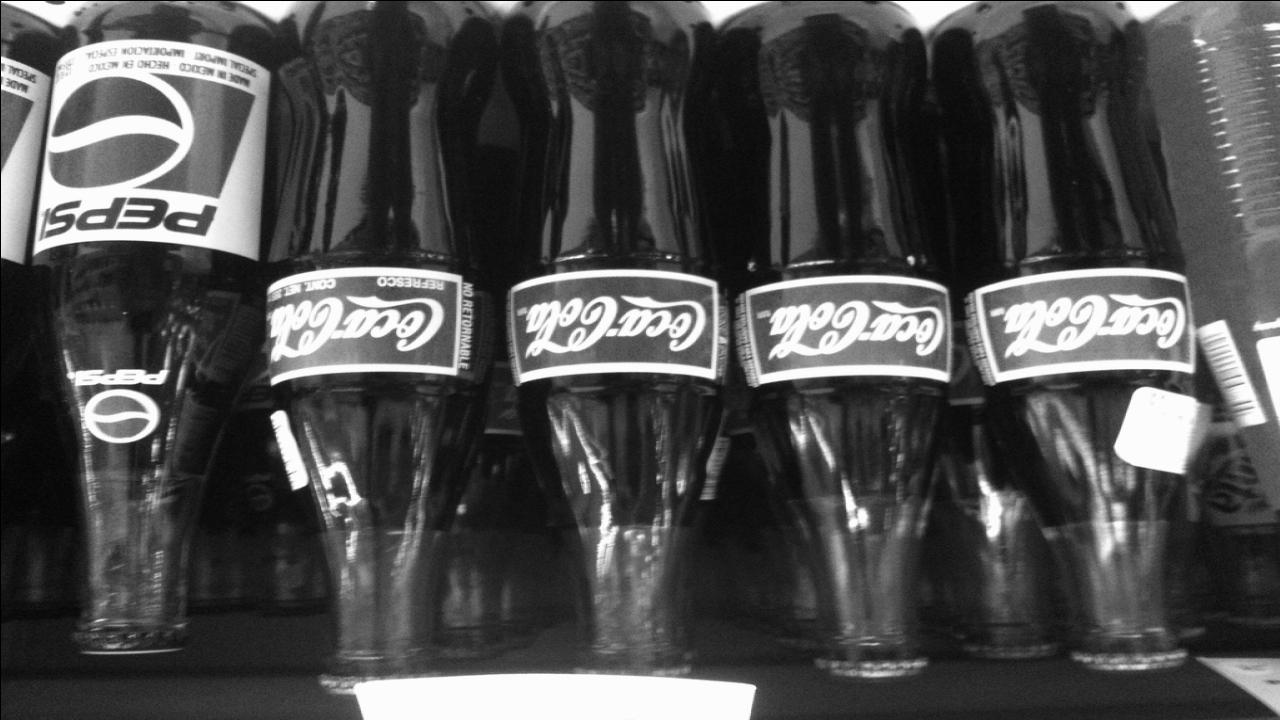bottle_cap: (317, 669, 443, 702), (1070, 648, 1190, 675), (72, 628, 186, 656), (815, 655, 931, 680), (957, 640, 1061, 660)
